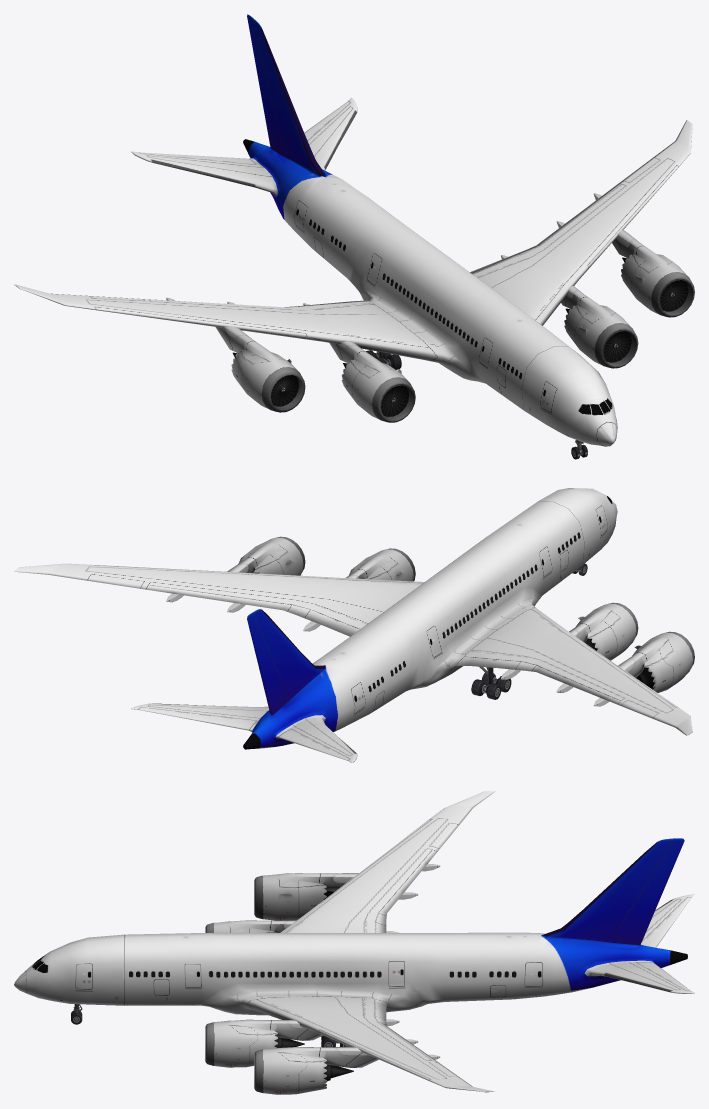
The picture shows the model from 3 angles, top to bottom: view 1: azimuth 30°, elevation 25°; view 2: azimuth 150°, elevation 25°; view 3: azimuth 270°, elevation 25°; orthographic projection. The views are drawn at different scales.
Visible parts, largest first — view 1: Object.014; view 2: Object.014; view 3: Object.014.
Boxes of the visible parts, bbox=[...] form: Object.014: bbox=[14, 14, 694, 459]; Object.014: bbox=[14, 488, 694, 762]; Object.014: bbox=[14, 791, 694, 1094].
Size of the model in its own units: 317 by 90.89 by 303.
1 material, 1 textured.
